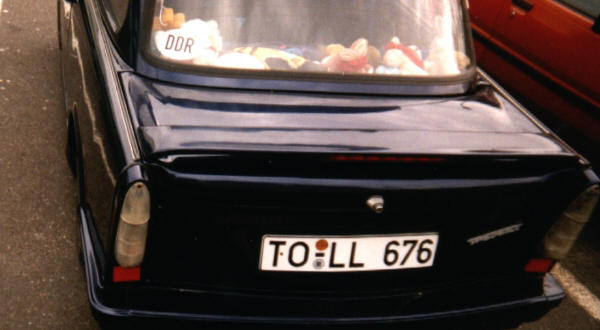license_plate: (258, 232, 441, 274)
